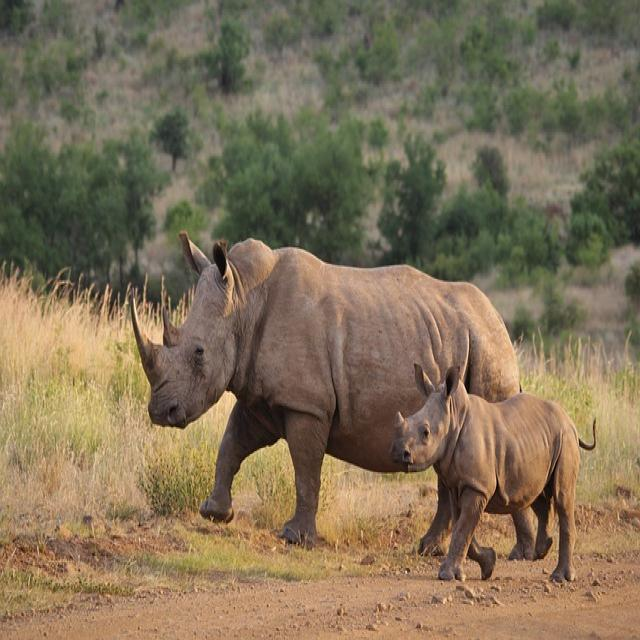Herbivorous: (145, 235, 523, 549), (395, 373, 582, 585)
